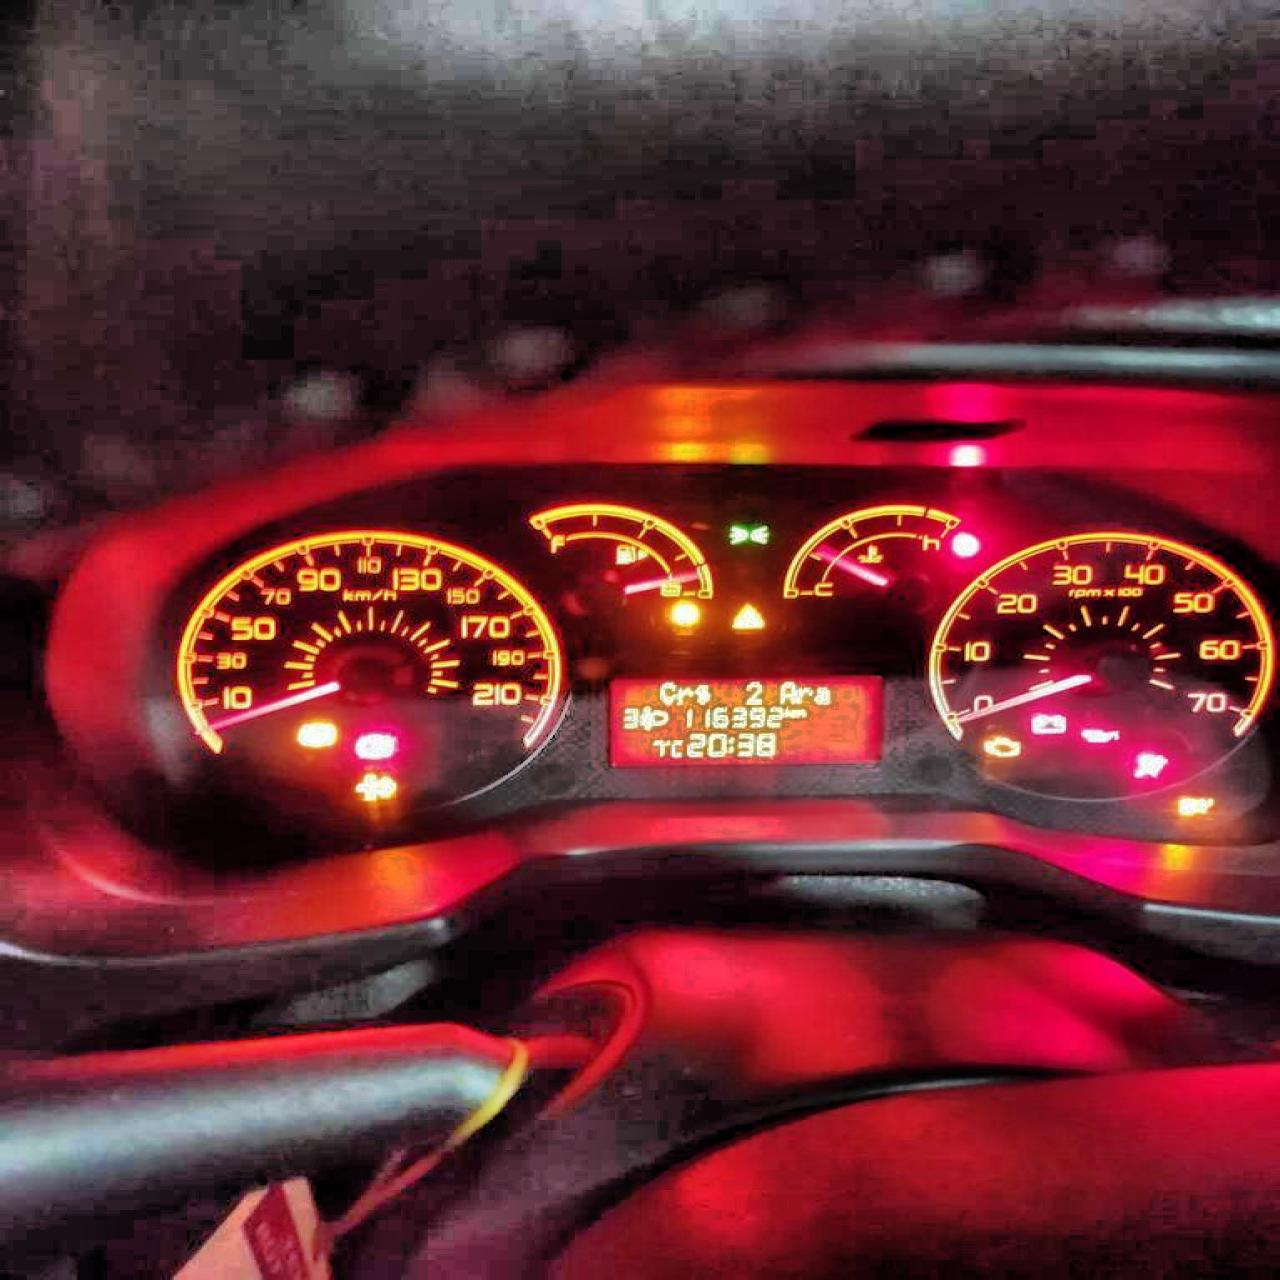0: (704, 731, 726, 757)
1: (683, 707, 694, 728), (702, 707, 710, 728)
2: (685, 731, 704, 757), (744, 679, 761, 703), (767, 704, 782, 727)
3: (737, 731, 754, 756), (730, 707, 747, 728), (621, 707, 636, 729)
6: (710, 704, 727, 727)
7: (649, 737, 663, 756)
8: (755, 730, 774, 756)
9: (747, 703, 765, 729)
X: (777, 679, 795, 703), (659, 679, 675, 704), (812, 685, 831, 704), (694, 682, 710, 703), (675, 685, 692, 704), (668, 737, 683, 757), (797, 685, 812, 704), (782, 704, 794, 719), (726, 734, 734, 754), (794, 707, 805, 717)
odometer: (601, 673, 887, 771)
